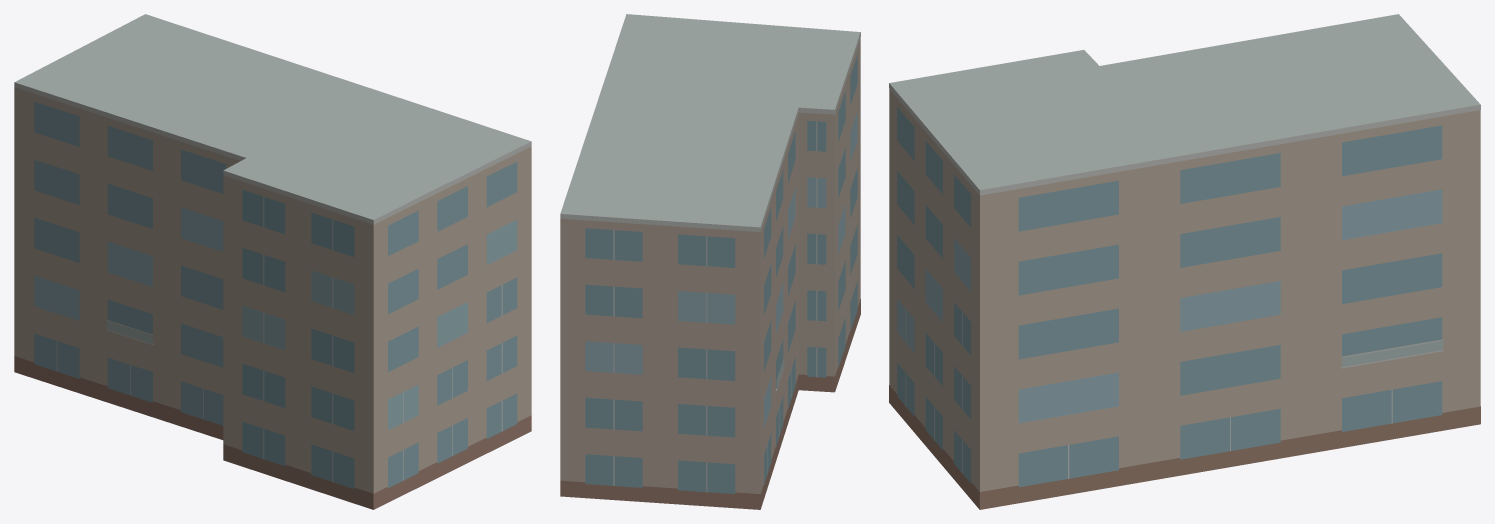
Rendered from survey-upis-32584552.glb.
The picture shows the model from 3 angles, left to right: view 1: azimuth 30°, elevation 25°; view 2: azimuth 150°, elevation 25°; view 3: azimuth 270°, elevation 25°; orthographic projection. The views are drawn at different scales.
Parts seen in each view (by area): view 1: survey-upis-32584552.tmp; view 2: survey-upis-32584552.tmp; view 3: survey-upis-32584552.tmp.
Boxes of the visible parts, x1=… form: survey-upis-32584552.tmp: x1=14, y1=14, x2=531, y2=509; survey-upis-32584552.tmp: x1=560, y1=14, x2=860, y2=509; survey-upis-32584552.tmp: x1=889, y1=14, x2=1480, y2=509.
Size of the model in its own units: 17.16 by 14.5 by 24.33.
